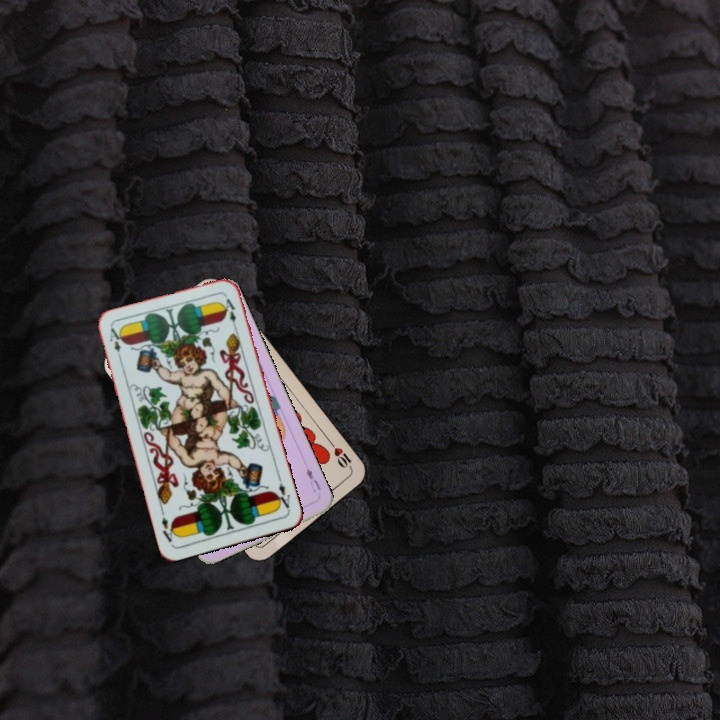EA: (271, 473, 293, 513), (106, 324, 125, 364)
EU: (302, 464, 323, 495)
H10: (326, 438, 355, 473)
